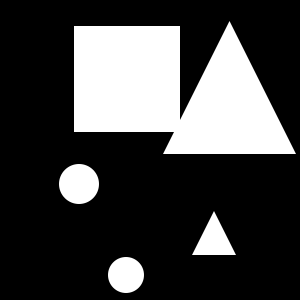circle: (74, 26, 180, 132)
rectangle: (59, 164, 99, 204), (108, 257, 144, 293)
triangle: (163, 21, 296, 154), (192, 211, 236, 255)
